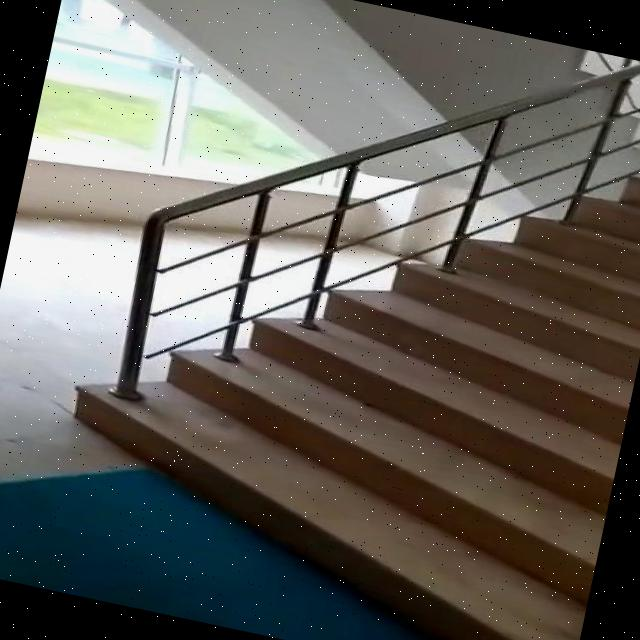stairs: (31, 63, 640, 640)
